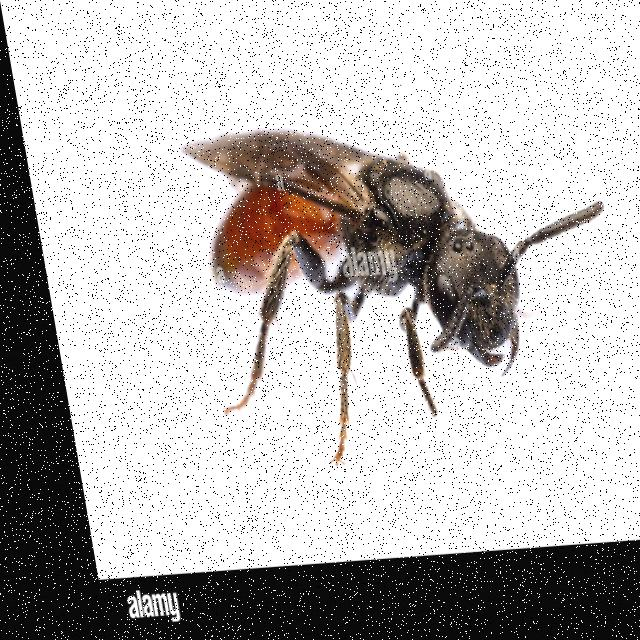Allodapula: (158, 80, 623, 499)
